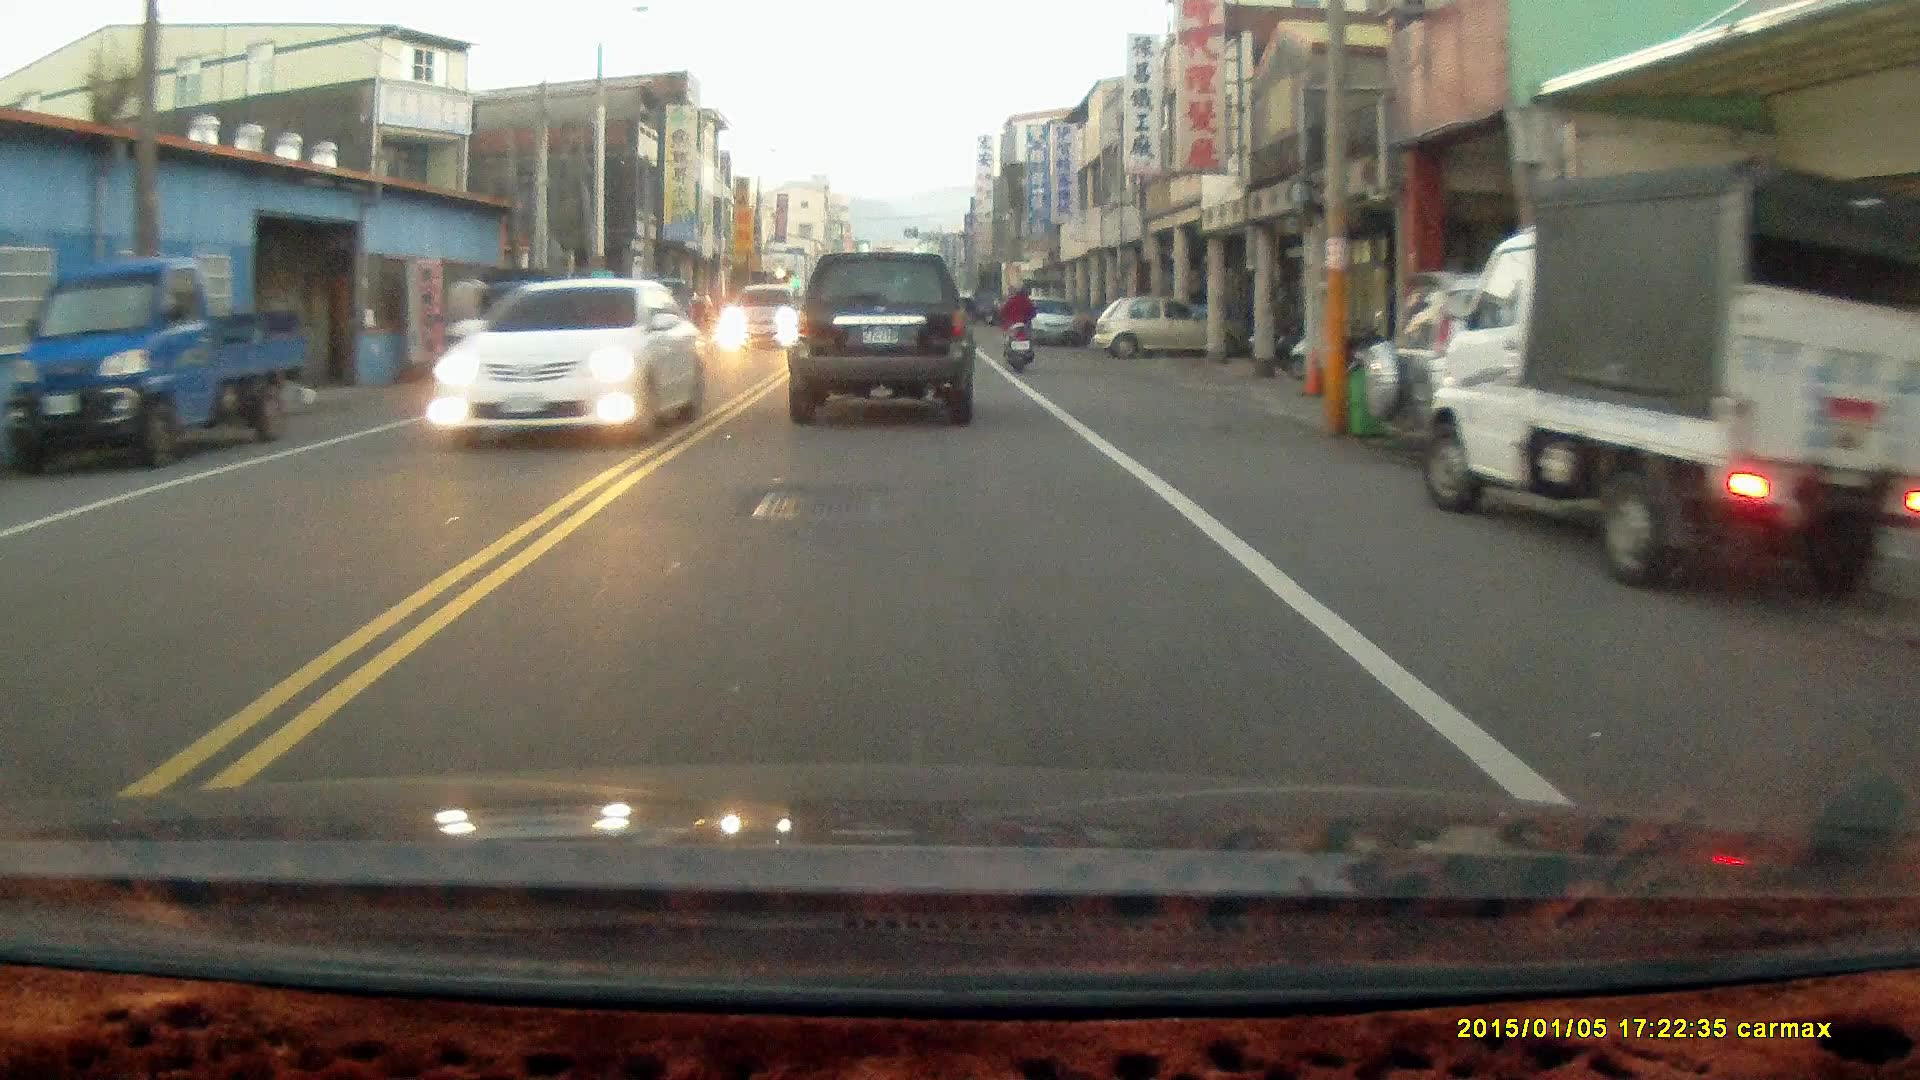rider: (431, 270, 491, 403), (998, 279, 1035, 374)
vehicle: (1419, 159, 1920, 605), (1370, 274, 1823, 465), (14, 264, 307, 472), (428, 274, 710, 448), (785, 247, 982, 427), (1092, 293, 1214, 357), (1018, 296, 1082, 347)
